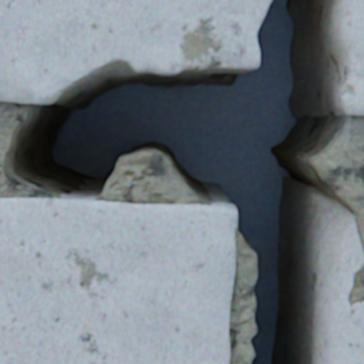brick: (0, 198, 235, 363), (328, 290, 363, 363), (359, 254, 363, 265)
broken_brick: (0, 0, 270, 104), (338, 0, 363, 115)
crack: (1, 0, 362, 363)
